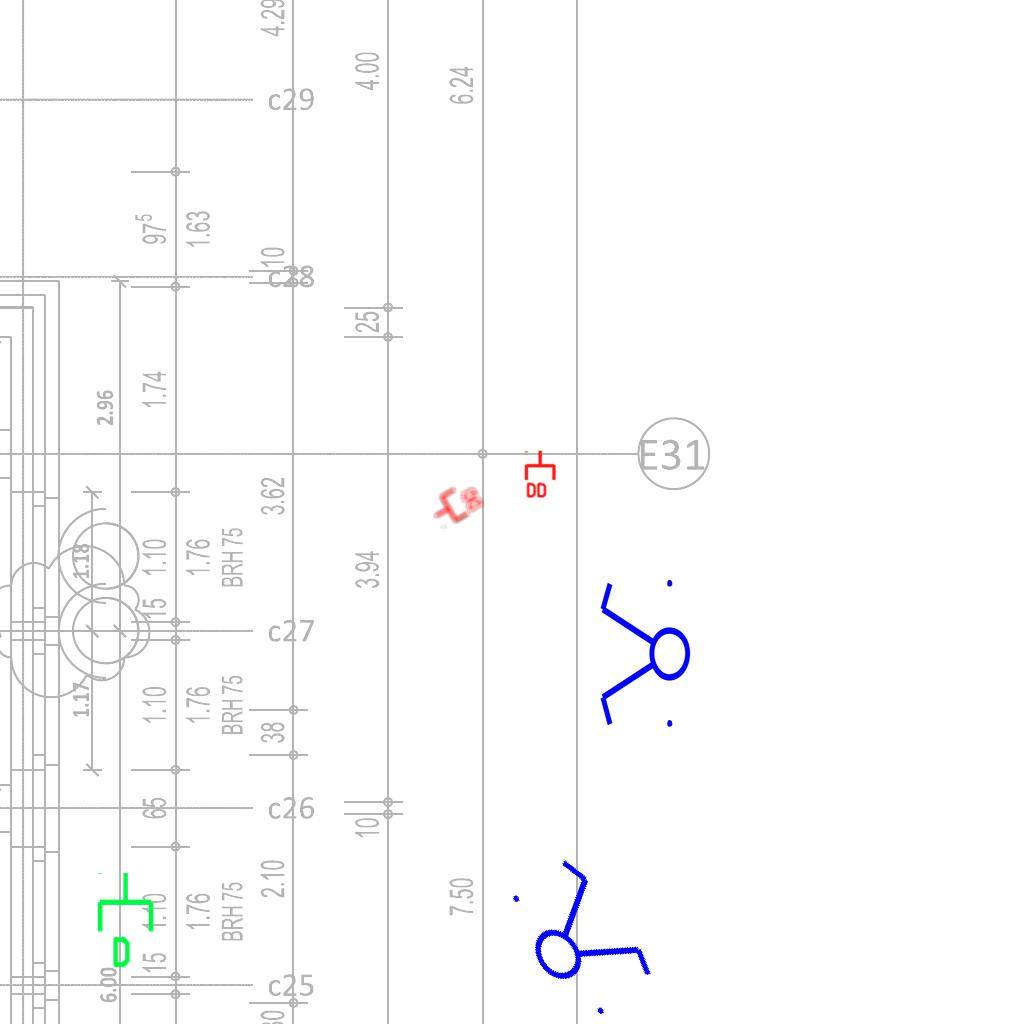Datenanschluss_einfach: (93, 870, 162, 970)
Datenanschluss_zweifach: (425, 476, 487, 531), (524, 449, 558, 500)
Serienschalter: (489, 842, 667, 1024), (596, 571, 692, 739)
